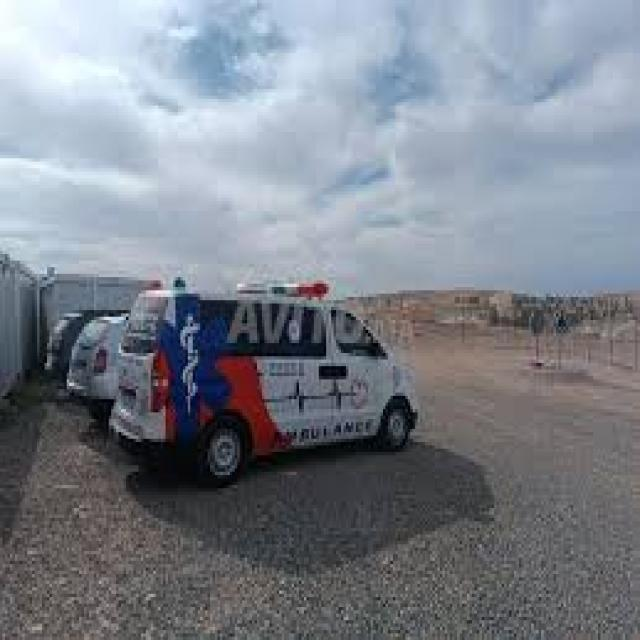ambulance: (105, 264, 426, 493)
